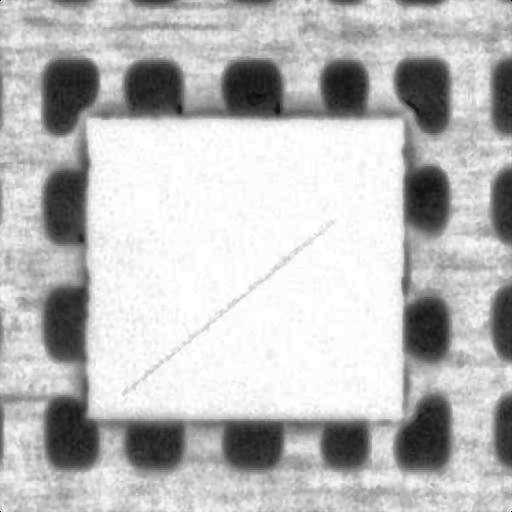DIE_CRACK: (162, 166, 439, 295)
